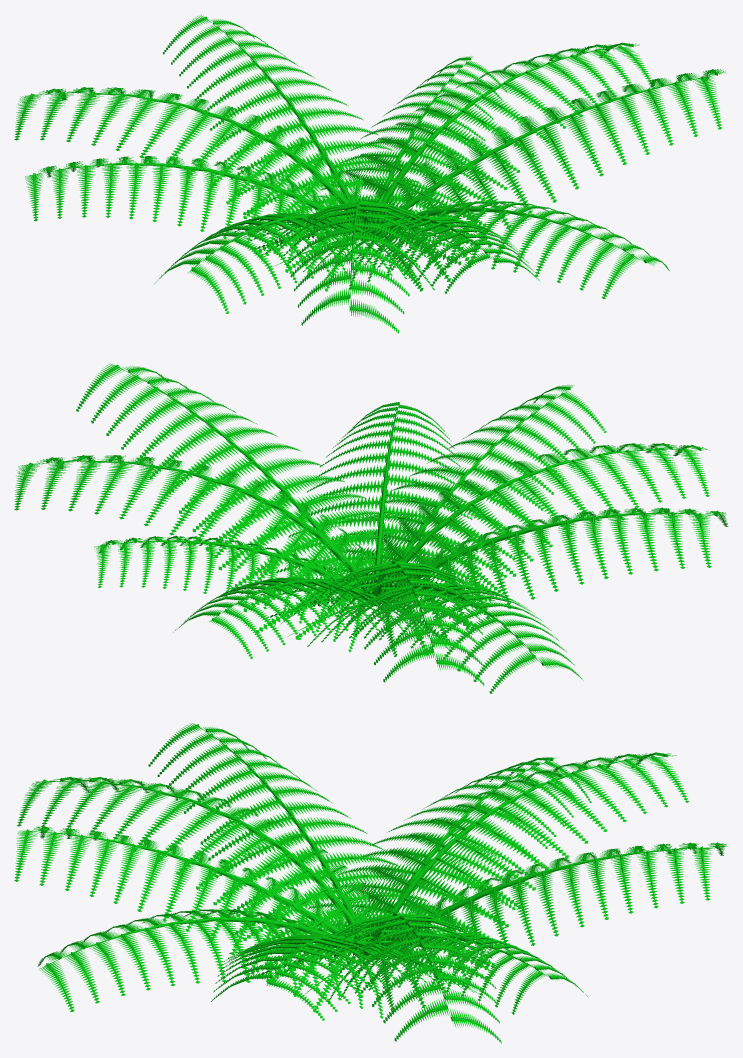
Rendered from FernLowPoly.FBX.
3 renders of one model, top to bottom at view 1: azimuth 30°, elevation 25°; view 2: azimuth 150°, elevation 25°; view 3: azimuth 270°, elevation 25°, orthographic. The views are drawn at different scales.
Parts seen in each view (by area): view 1: FernLeaf008, FernLeaf007, FernLeaf002, FernLeaf, FernLeaf006, FernLeaf009, FernLeaf003, FernLeaf005, FernLeaf001, FernLeaf004; view 2: FernLeaf002, FernLeaf008, FernLeaf009, FernLeaf004, FernLeaf005, FernLeaf003, FernLeaf007, FernLeaf006, FernLeaf001, FernLeaf; view 3: FernLeaf007, FernLeaf009, FernLeaf005, FernLeaf004, FernLeaf, FernLeaf003, FernLeaf006, FernLeaf008, FernLeaf002, FernLeaf001.
Part boxes in pixels (left/top/right/bottom): FernLeaf008: left=337, top=42, right=654, bottom=265; FernLeaf007: left=14, top=87, right=378, bottom=272; FernLeaf002: left=375, top=69, right=725, bottom=291; FernLeaf: left=162, top=15, right=428, bottom=253; FernLeaf006: left=25, top=156, right=351, bottom=291; FernLeaf009: left=254, top=200, right=471, bottom=333; FernLeaf003: left=321, top=201, right=669, bottom=298; FernLeaf005: left=154, top=213, right=434, bottom=313; FernLeaf001: left=318, top=56, right=506, bottom=249; FernLeaf004: left=271, top=216, right=539, bottom=293; FernLeaf002: left=76, top=363, right=451, bottom=633; FernLeaf008: left=14, top=455, right=387, bottom=639; FernLeaf009: left=367, top=443, right=709, bottom=645; FernLeaf004: left=323, top=384, right=606, bottom=628; FernLeaf005: left=379, top=507, right=728, bottom=656; FernLeaf003: left=274, top=402, right=491, bottom=601; FernLeaf007: left=268, top=560, right=485, bottom=685; FernLeaf006: left=287, top=583, right=583, bottom=693; FernLeaf001: left=94, top=535, right=367, bottom=652; FernLeaf: left=173, top=577, right=448, bottom=658; FernLeaf007: left=352, top=752, right=689, bottom=988; FernLeaf009: left=17, top=776, right=414, bottom=981; FernLeaf005: left=148, top=723, right=465, bottom=976; FernLeaf004: left=14, top=826, right=368, bottom=1012; FernLeaf: left=376, top=842, right=727, bottom=1011; FernLeaf003: left=37, top=909, right=383, bottom=1018; FernLeaf006: left=308, top=757, right=591, bottom=978; FernLeaf008: left=259, top=912, right=501, bottom=1043; FernLeaf002: left=211, top=933, right=485, bottom=1020; FernLeaf001: left=305, top=932, right=588, bottom=1014.
Bounding box in the file's own units: 38.25 × 8.59 × 37.15.
